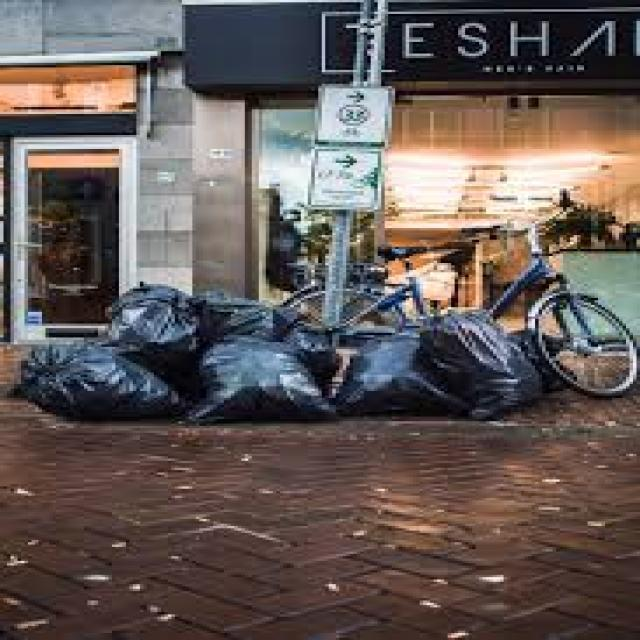Trashbag: (196, 329, 328, 427), (438, 310, 541, 410), (38, 352, 161, 414), (120, 284, 211, 363), (345, 337, 431, 412)
